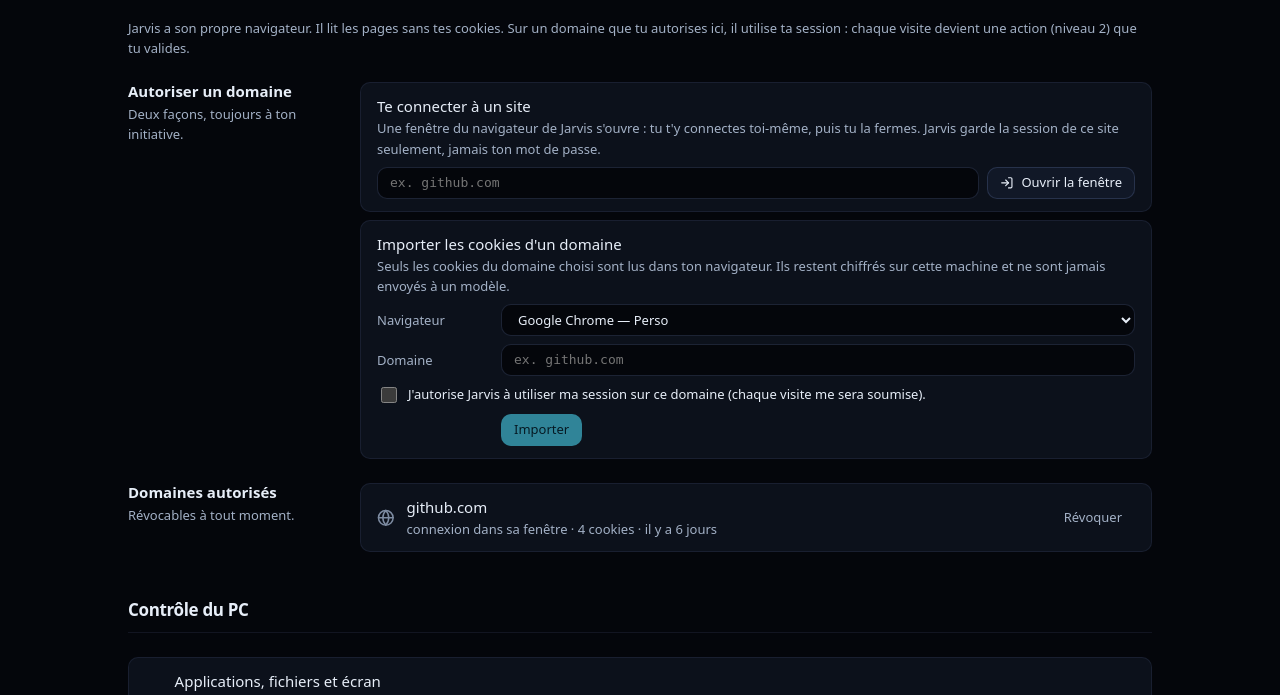
Test: Réglages du navigateur › n'importe des cookies qu'avec ton accord explicite, domaine par domaine
(page scrolled)
Type "notion.so" into the field labelled "Domaine" at [818, 360], box [501, 344, 1135, 376]
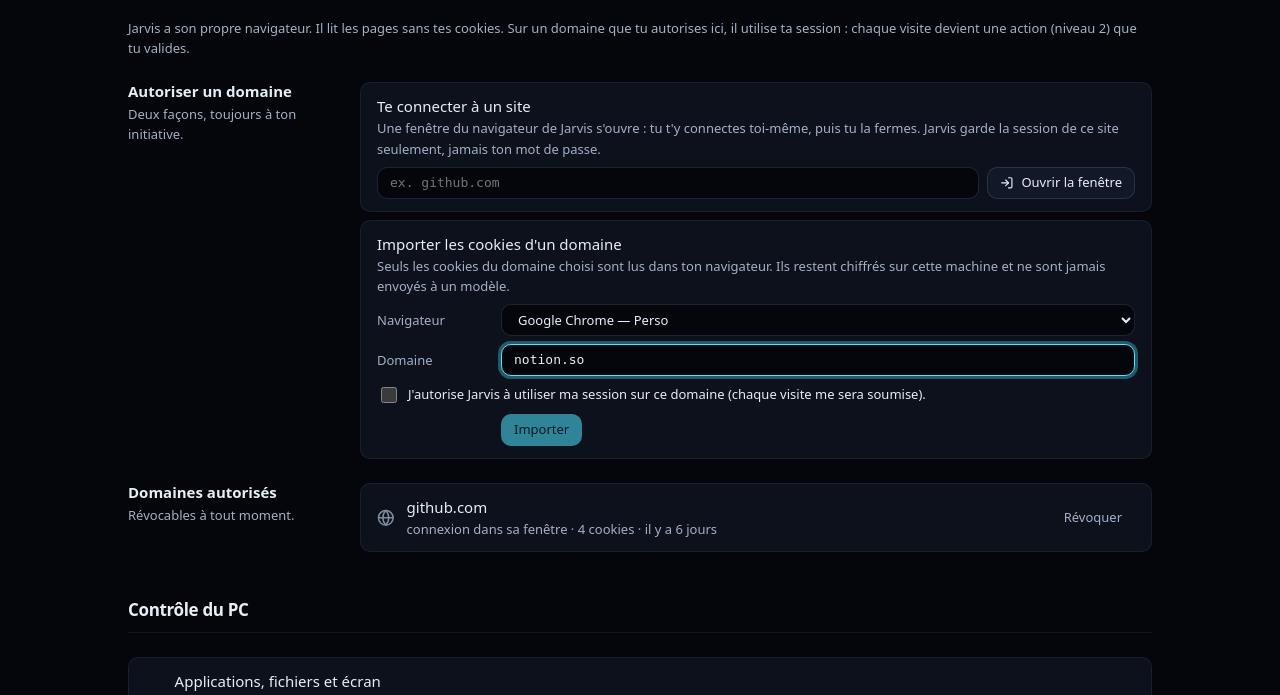
Check: the button "Importer" is disabled, box [501, 414, 582, 446]
Click the checkbox labelled "J'autorise Jarvis" at [389, 395], box [381, 387, 397, 403]
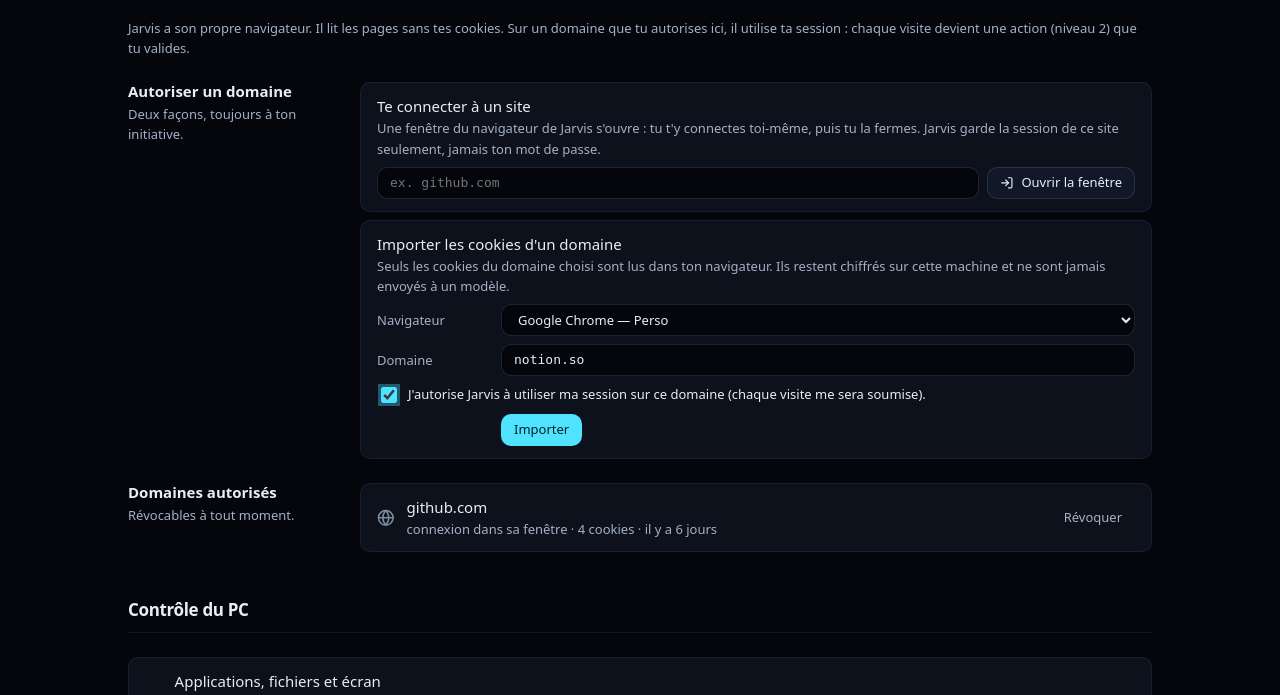
Click the button "Importer" at [542, 430], box [501, 414, 582, 446]
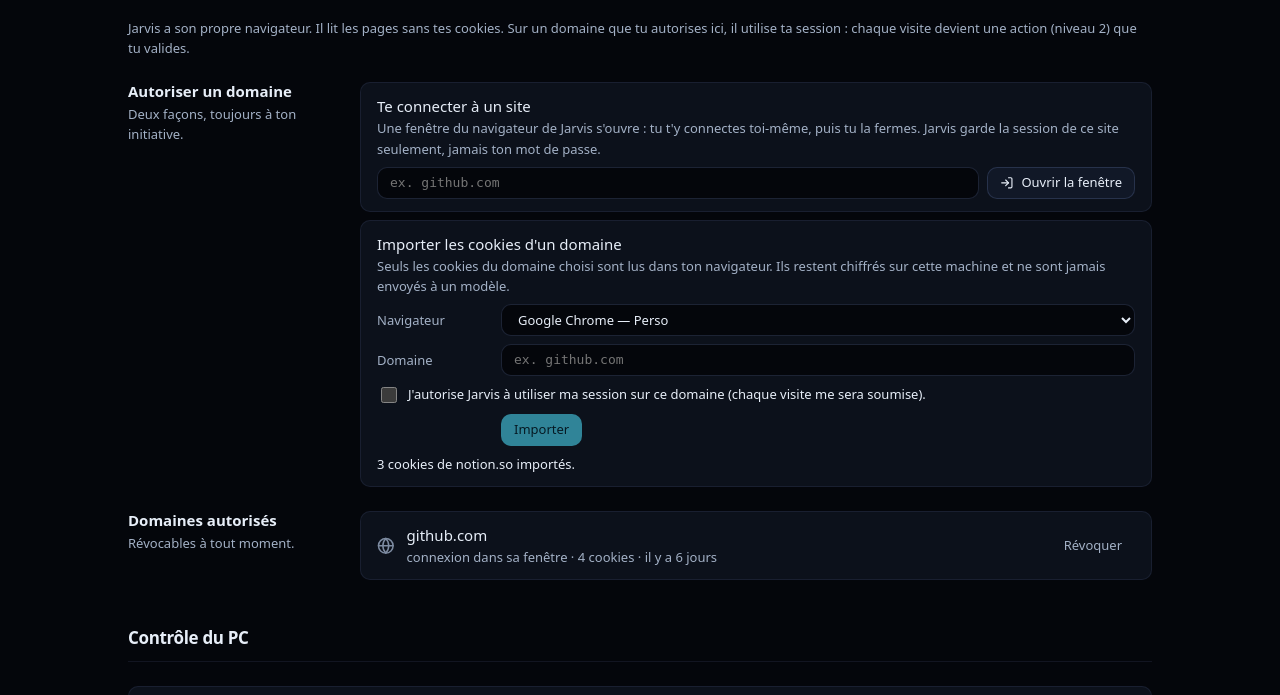
Check: the text "3 cookies de notion.so importés." is shown, box [377, 455, 575, 473]
